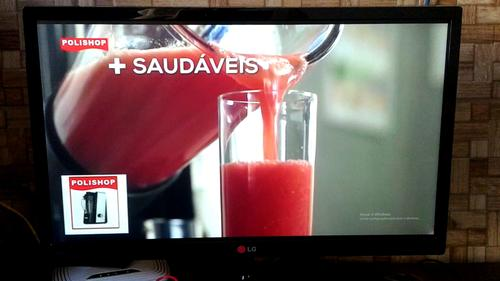Polishop #1: (60, 172, 129, 233)
